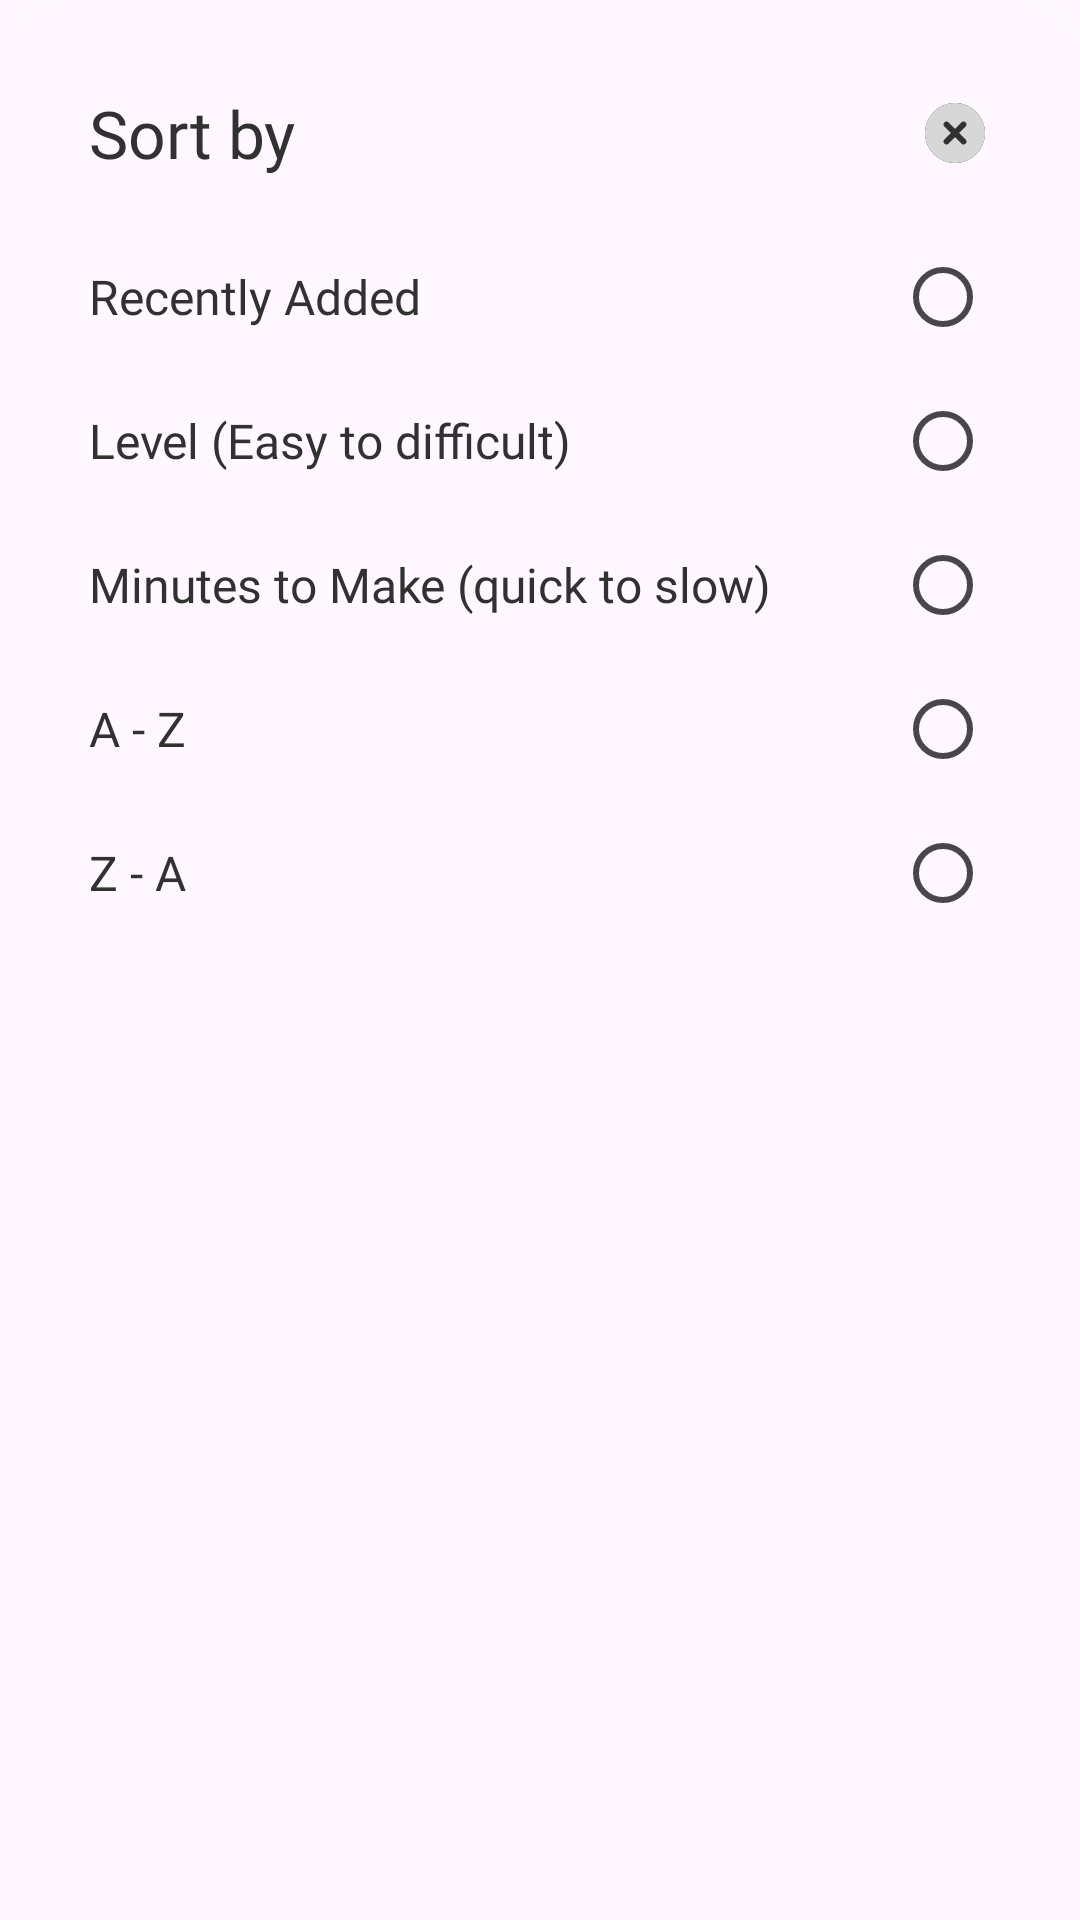

Icon click points for this 1080 × 1920 phone screenshot, format (x=x, y=y):
close dropdown: (x=955, y=133)
